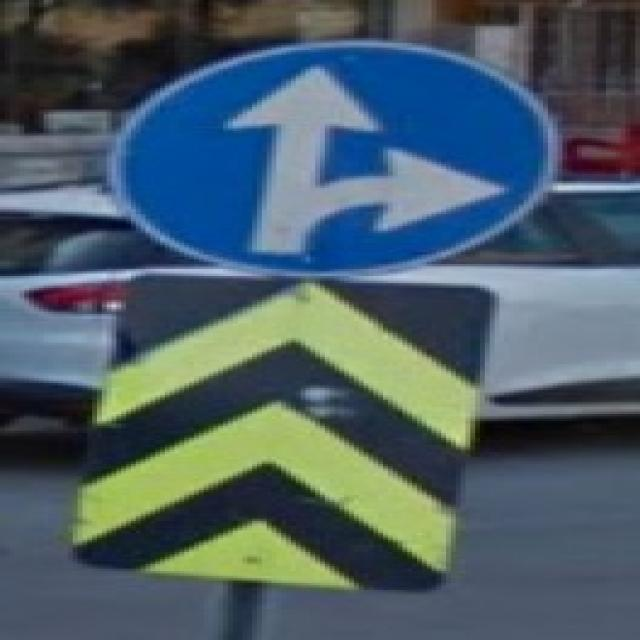Straight or Right: (106, 45, 552, 271)
